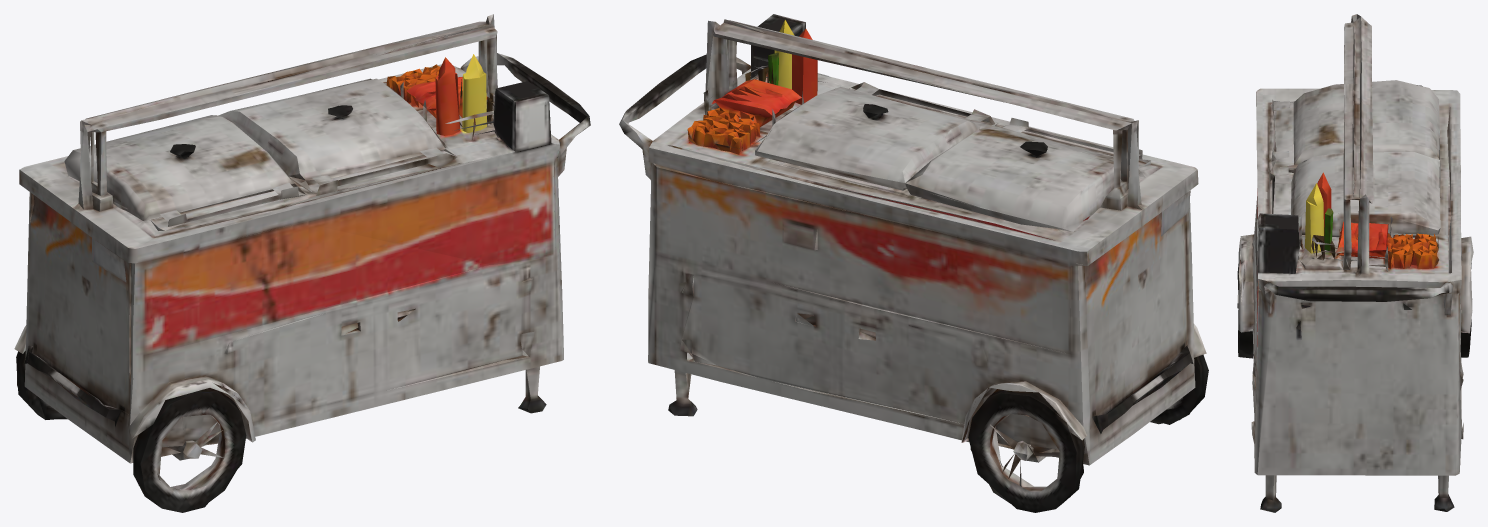
File: hotdog-cart.glb
The picture shows the model from 3 angles, left to right: view 1: azimuth 30°, elevation 25°; view 2: azimuth 150°, elevation 25°; view 3: azimuth 270°, elevation 25°; orthographic projection. The views are drawn at different scales.
Visible parts, largest first — view 1: hotdogCart; view 2: hotdogCart; view 3: hotdogCart.
Boxes of the visible parts, box(x1,y1,x2,y2) form: hotdogCart: box(14, 14, 590, 512); hotdogCart: box(619, 14, 1208, 512); hotdogCart: box(1237, 14, 1473, 512).
Size of the model in its own units: 1.72 by 1.19 by 0.8.
1 material, 1 textured.
